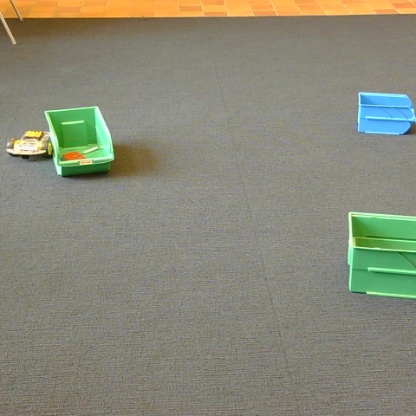robot: (6, 130, 52, 158)
